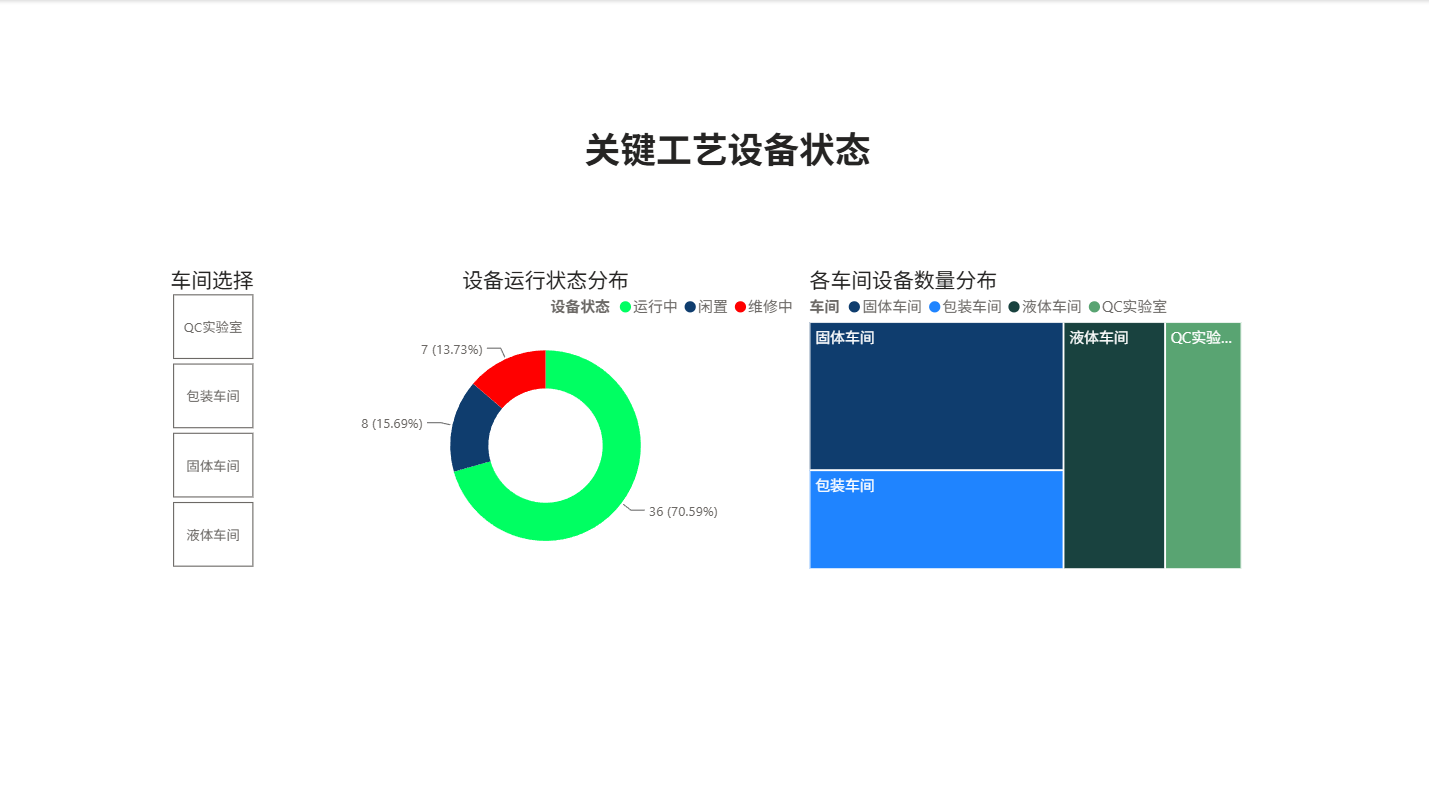

This screenshot's page, from the dashboard's own definition file:
{"tool":"powerbi","page":{"name":"设备状态","canvas":[1280,720],"ordinal":2},"visuals":[{"type":"slicer","title":"车间选择","fields":{"Values":["pharma_db v_dim_workshop.workshop"]},"box":[129,235.5,121.8,279.4],"z":0},{"type":"donutChart","title":"设备运行状态分布","fields":{"Y":["CountNonNull(pharma_db v_equipment_workshop_load.equipment_id)"],"Category":["pharma_db v_equipment_workshop_load.equipment_status"]},"box":[257,235.5,463,279.4],"z":1000},{"type":"treemap","title":"各车间设备数量分布","fields":{"Group":["pharma_db v_equipment_workshop_load.workshop"],"Values":["CountNonNull(pharma_db v_equipment_workshop_load.equipment_name)"]},"box":[720,235.5,396.7,279.4],"z":2000},{"type":"textbox","box":[23.3,103.9,1256.4,86],"z":4000}]}

Visuals, with their boxes in screenshot pixels (x1, y1, x2, y2), scaled from the page's 1280x720 canvas onto the 1429x804 screenshot:
"车间选择" slicer: (left=144, top=263, right=280, bottom=575)
"设备运行状态分布" donutChart: (left=287, top=263, right=804, bottom=575)
"各车间设备数量分布" treemap: (left=804, top=263, right=1247, bottom=575)
textbox: (left=26, top=116, right=1428, bottom=212)
